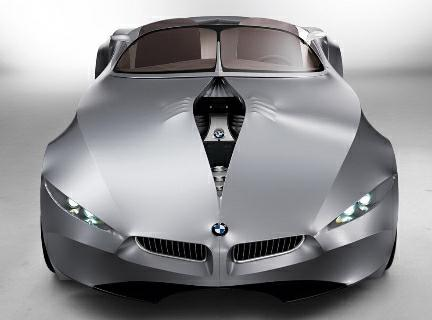宝马-GINA: (34, 10, 404, 302)
